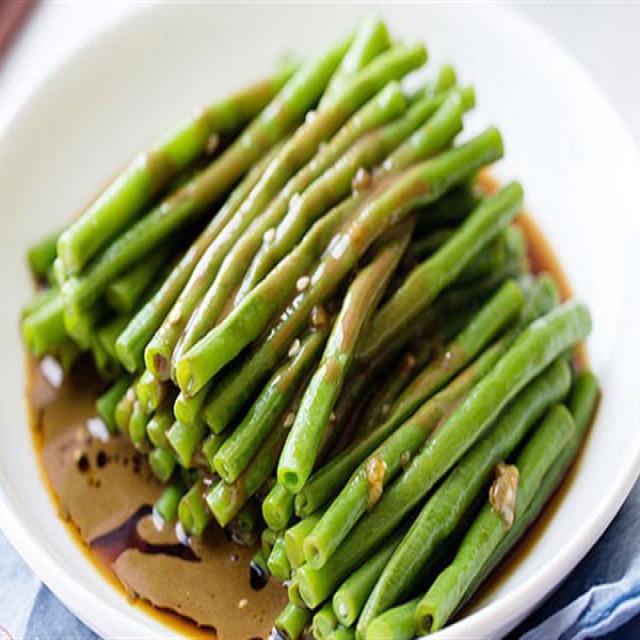dau que: (21, 19, 597, 638)
